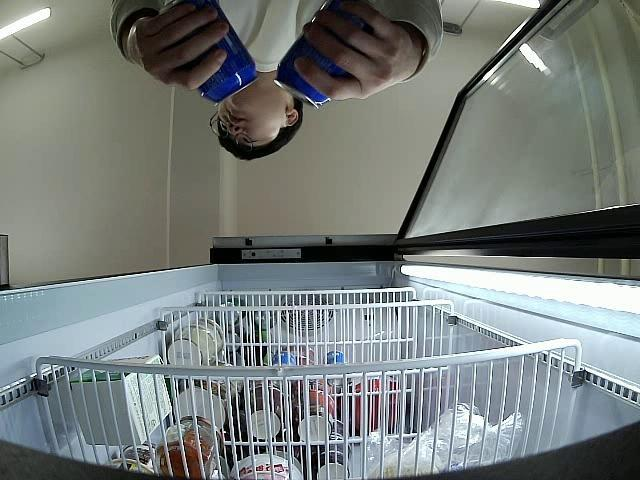13_pocariSweat: (274, 0, 378, 110), (163, 0, 260, 107)
